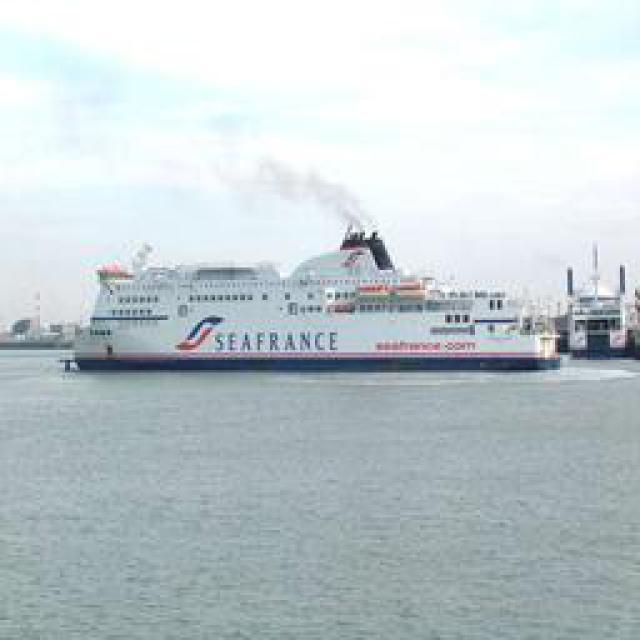Ship: (70, 220, 563, 373)
